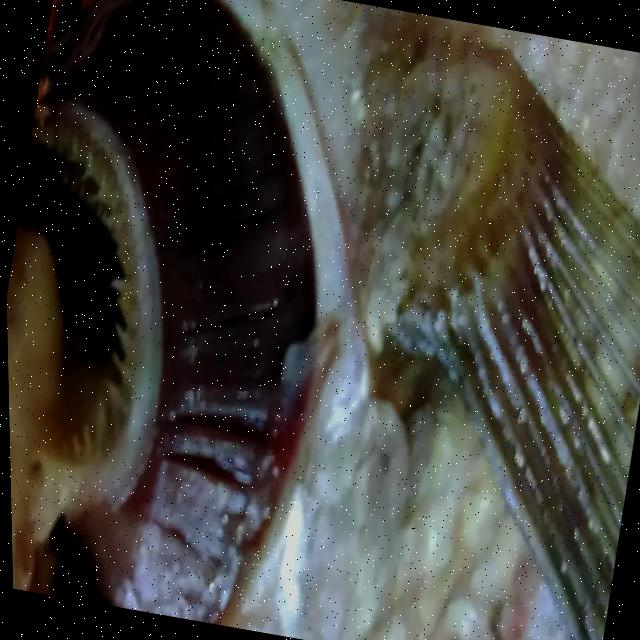Non-Fresh: (0, 0, 401, 638)
